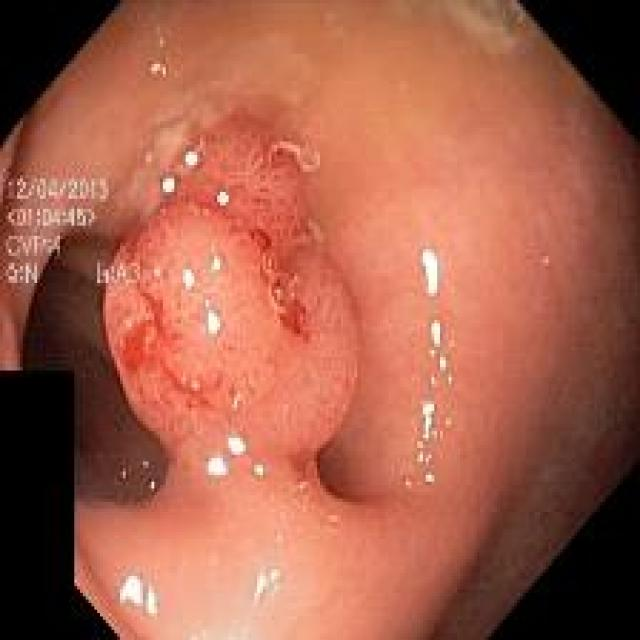Polyps: (104, 116, 358, 474)
